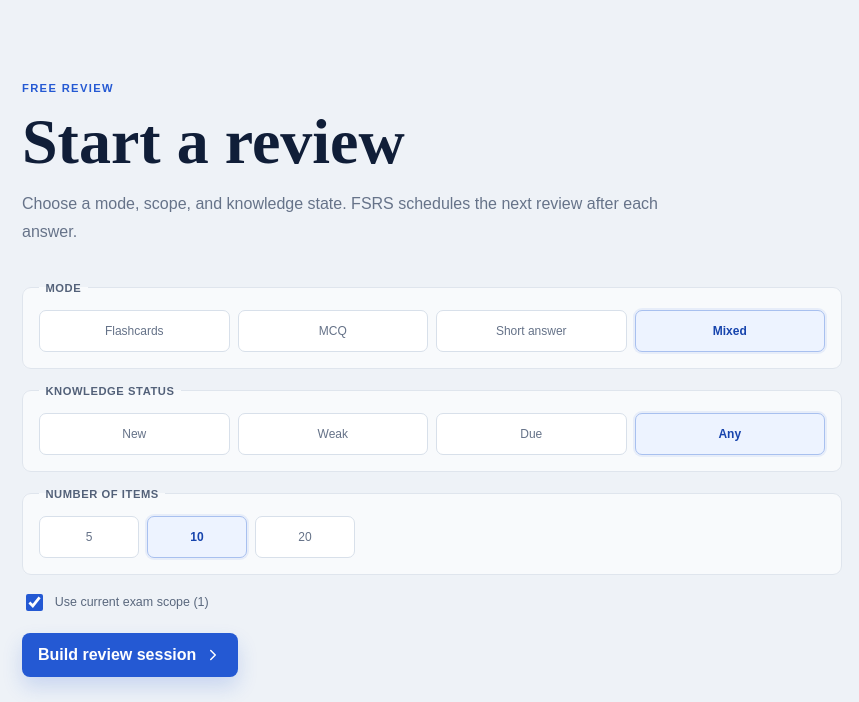
uses the all global level when building a scoped review
Click the button "Flashcards".
click(134, 331)  # box x1=39 y1=310 x2=230 y2=352
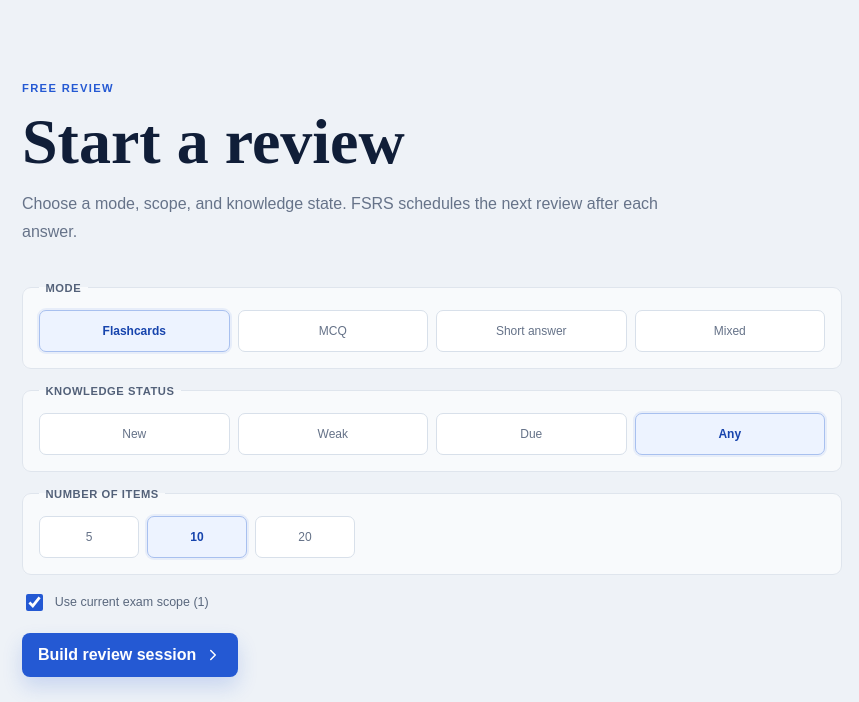
Click the button "Build review session".
click(130, 655)  # box x1=22 y1=633 x2=238 y2=677
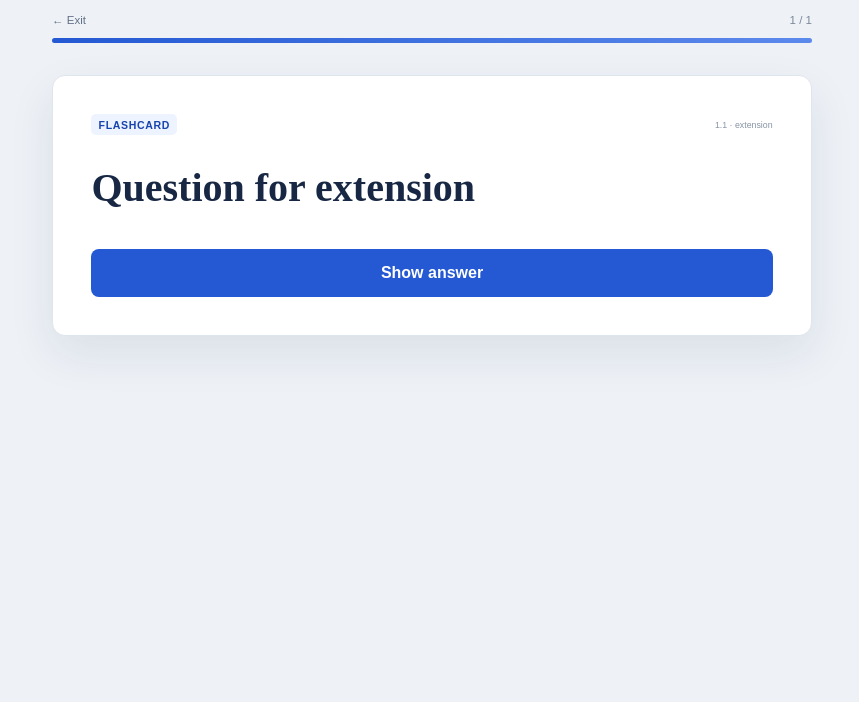
Check: the heading "Question for extension" is shown, box x1=91 y1=165 x2=475 y2=210
